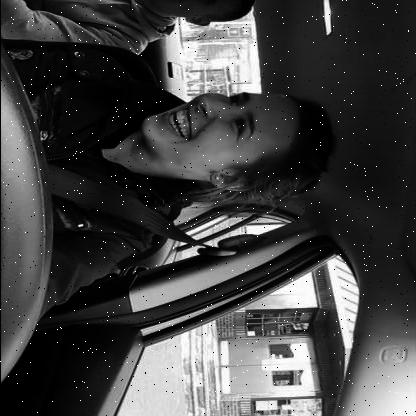seatbelt: (30, 84, 346, 260)
